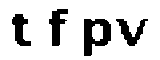f: (50, 2, 69, 50)
p: (80, 16, 112, 60)
t: (7, 10, 32, 50)
v: (116, 17, 148, 48)
